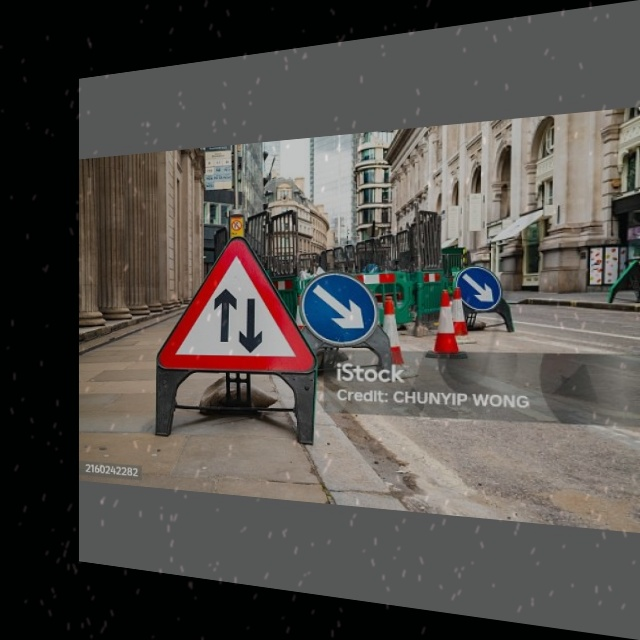Mandatory_Two_Way_Traffic: (165, 231, 312, 379)
